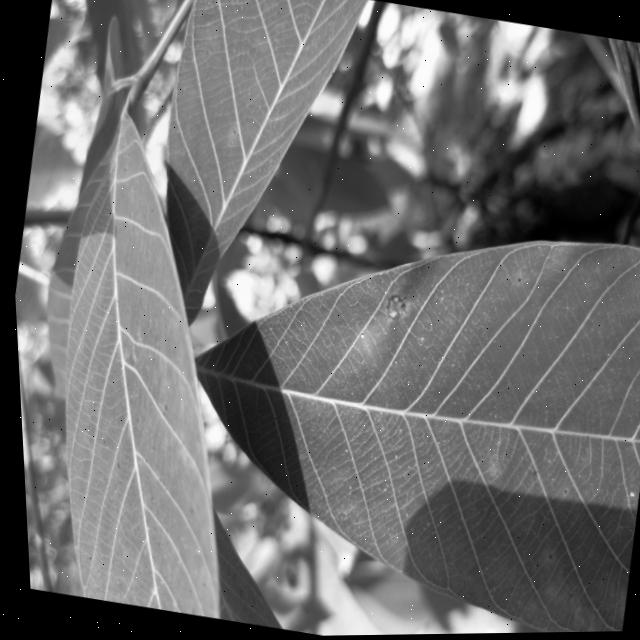Colletotrichum: (355, 333, 362, 340)
